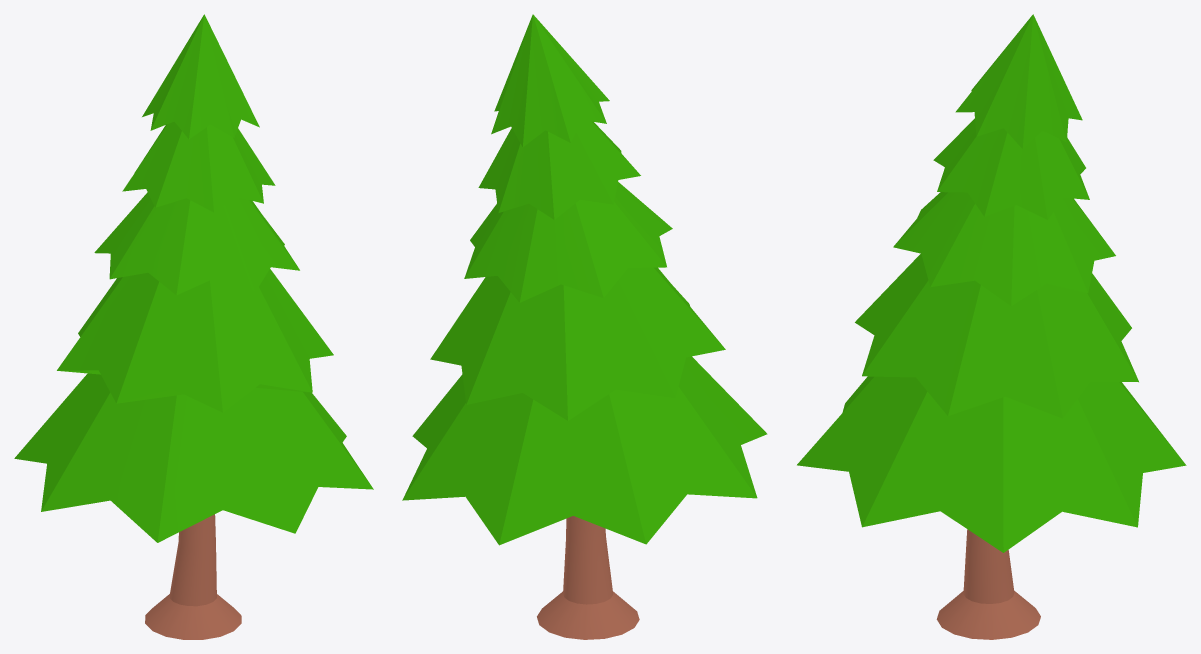
Rendered from object_144_lev1.glb.
3 renders of one model, left to right at view 1: azimuth 30°, elevation 25°; view 2: azimuth 150°, elevation 25°; view 3: azimuth 270°, elevation 25°, orthographic. The views are drawn at different scales.
Parts seen in each view (by area): view 1: object_144_lev1; view 2: object_144_lev1; view 3: object_144_lev1.
Boxes of the visible parts, left/top/right/bottom form: object_144_lev1: left=14, top=14, right=373, bottom=639; object_144_lev1: left=402, top=14, right=767, bottom=639; object_144_lev1: left=797, top=14, right=1186, bottom=639.
Size of the model in its own units: 0.7233 by 1.27 by 0.7232.
Materials: 1 (1 with a texture image).
